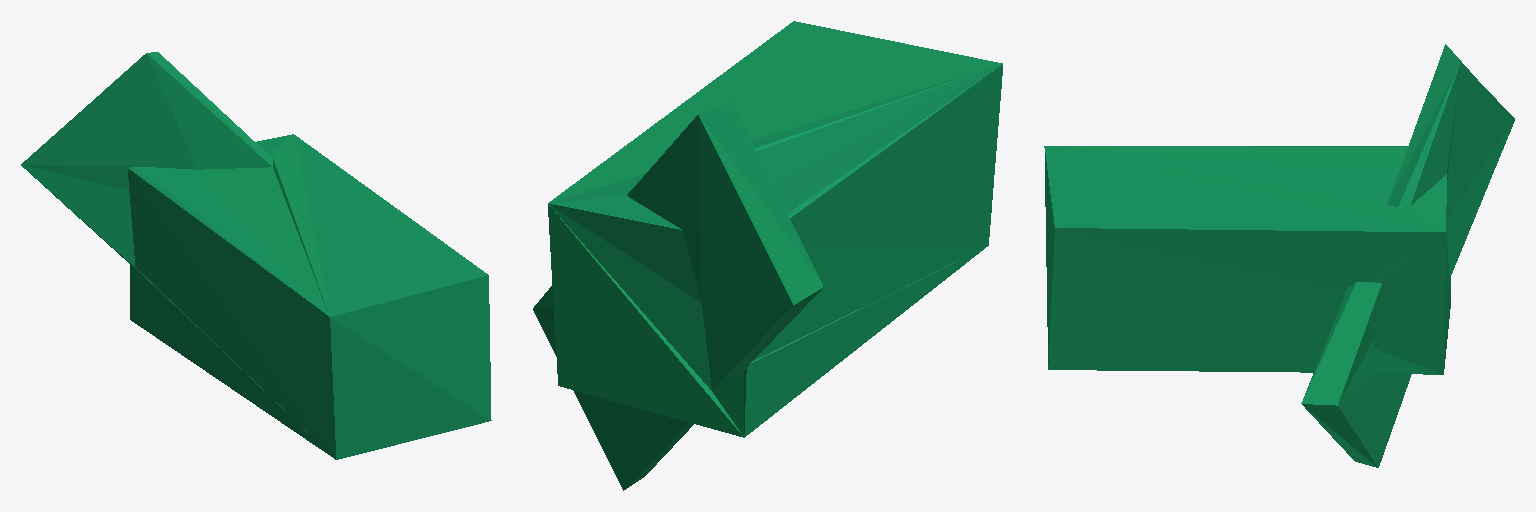
The robot description file, URDF, robot "blob416":

<robot name="blob416">
  <link name="random_obj_416">
    <contact>
      <lateral_friction value="1.0"/>
      <rolling_friction value="0.0"/>
      <inertia_scaling value="3.0"/>
      <contact_cfm value="0.0"/>
      <contact_erp value="1.0"/>
    </contact>
    <inertial>
      <origin rpy="0 0 0" xyz="0 0 0"/>
      <mass value="0.1303"/>
      <inertia ixx="1" ixy="0" ixz="0" iyy="1" iyz="0" izz="0"/>
    </inertial>
    <visual>
      <origin rpy="0 0 0" xyz="0 0 0"/>
      <geometry>
        <mesh filename="416.obj" scale="0.0074 0.0074 0.0074"/>
      </geometry>
      <material name="blockmat">
        <color rgba="0.12 0.63 0.40 1"/>
      </material>
    </visual>
    <collision>
      <origin rpy="0 0 0" xyz="0 0 0"/>
      <geometry>
        <mesh filename="416_coll.obj" scale="0.0074 0.0074 0.0074"/>
      </geometry>
    </collision>
  </link>
</robot>

--- What the picture shows (computed from the rendered views, not written in the file) ---
3 views of the same robot in one strip: view 1: azimuth 30°, elevation 25°; view 2: azimuth 150°, elevation 25°; view 3: azimuth 270°, elevation 25° (orthographic).
Model blob416 with 1 links and 0 joints (none), rooted at random_obj_416, posed every joint at zero.
Links seen in each view (by area): view 1: random_obj_416; view 2: random_obj_416; view 3: random_obj_416.
Boxes of the visible links, x1=… form: random_obj_416: x1=21, y1=52, x2=491, y2=459; random_obj_416: x1=533, y1=21, x2=1002, y2=490; random_obj_416: x1=1044, y1=44, x2=1514, y2=467.
Bounding box of the posed robot: 0.0827 × 0.1077 × 0.0923 m (x, y, z).
1 mesh visuals loaded from 1 distinct referenced files (1 OBJ).
